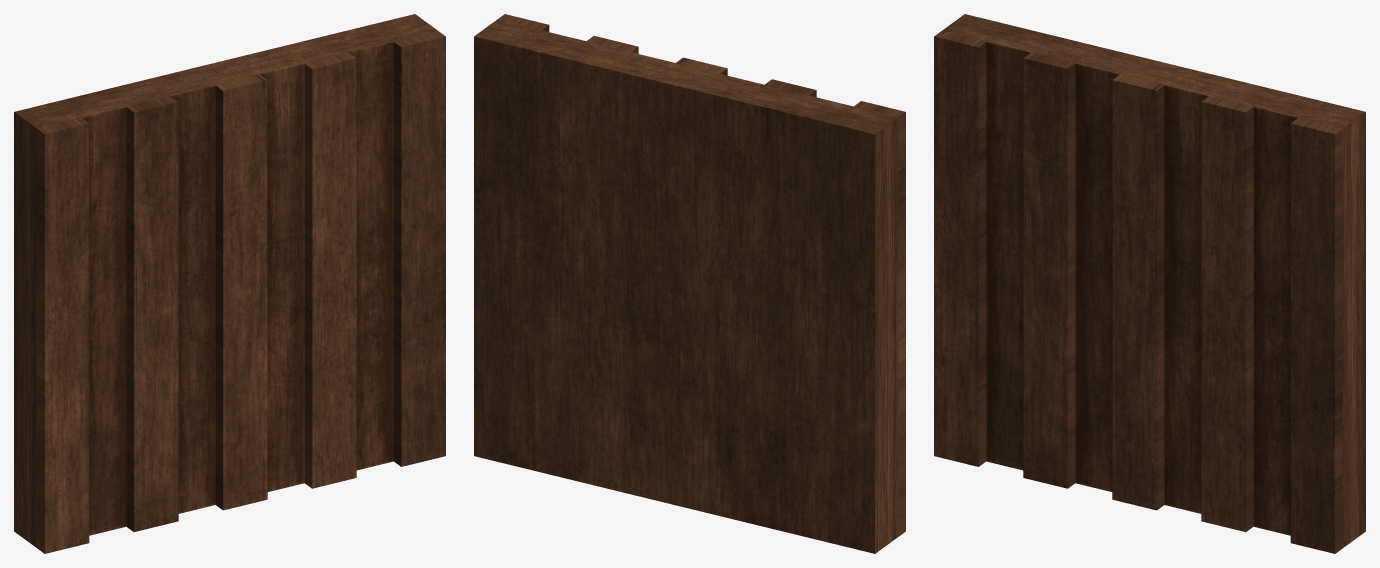
The model's file is wall.glb.
The picture shows the model from 3 angles, left to right: view 1: azimuth 30°, elevation 25°; view 2: azimuth 150°, elevation 25°; view 3: azimuth 330°, elevation 25°; orthographic projection.
Visible parts, largest first — view 1: pCube1; view 2: pCube1; view 3: pCube1.
Boxes of the visible parts, bbox=[...] form: pCube1: bbox=[14, 14, 445, 553]; pCube1: bbox=[474, 14, 905, 553]; pCube1: bbox=[934, 14, 1365, 553].
Bounding box in the file's own units: 20 × 20 × 2.65.
Materials: 1 (1 with a texture image).
